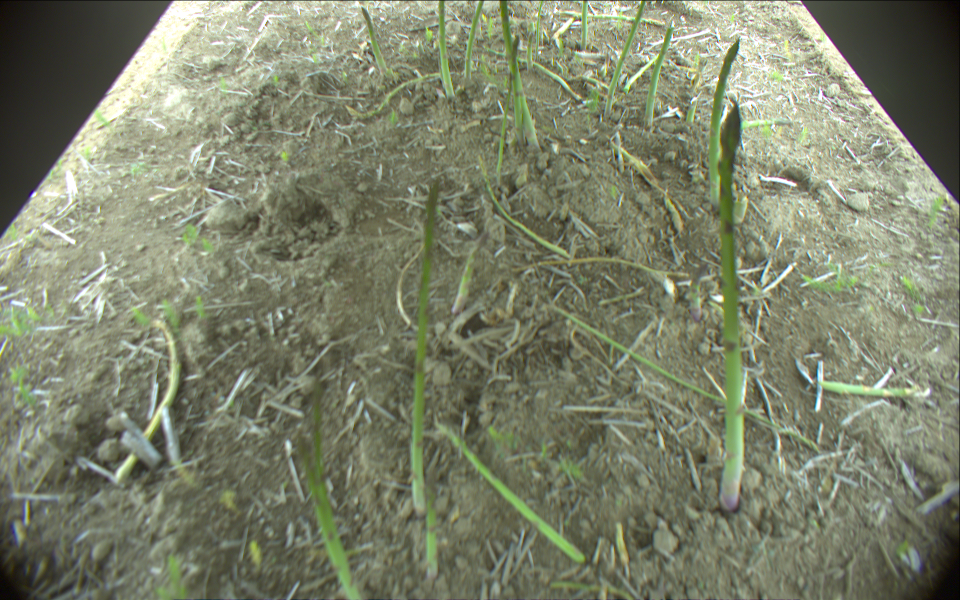aspa: (545, 300, 818, 449), (436, 425, 586, 564), (718, 101, 747, 508), (410, 177, 445, 514), (115, 319, 182, 482), (294, 435, 358, 600), (470, 154, 571, 258), (342, 69, 462, 122), (706, 37, 741, 211), (483, 43, 581, 102), (500, 1, 539, 148), (515, 255, 689, 280), (497, 34, 523, 185), (452, 227, 491, 313), (644, 27, 676, 125), (819, 379, 928, 400), (435, 1, 457, 98), (361, 4, 389, 76), (554, 9, 664, 27), (312, 377, 329, 489), (424, 475, 441, 580), (465, 1, 484, 80), (625, 55, 662, 92), (723, 116, 792, 131), (579, 1, 589, 50), (536, 1, 545, 55), (527, 28, 534, 69), (688, 98, 699, 123)
